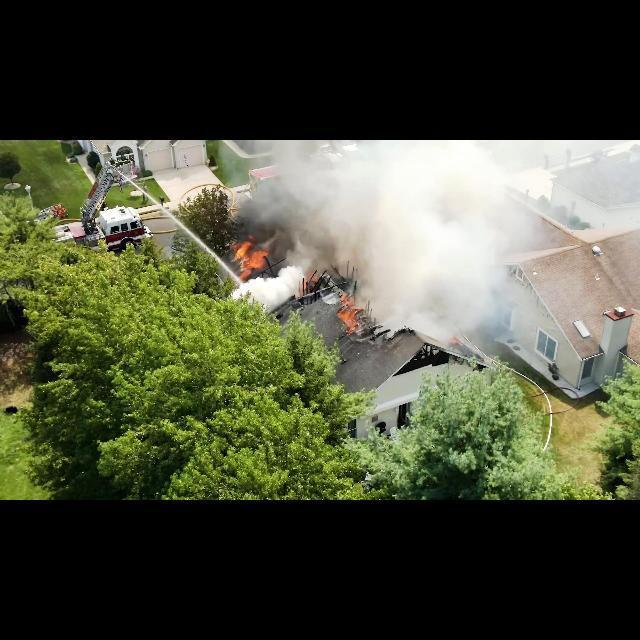Fire: (230, 242, 260, 276)
Smoke: (360, 208, 500, 306), (278, 168, 387, 236)
